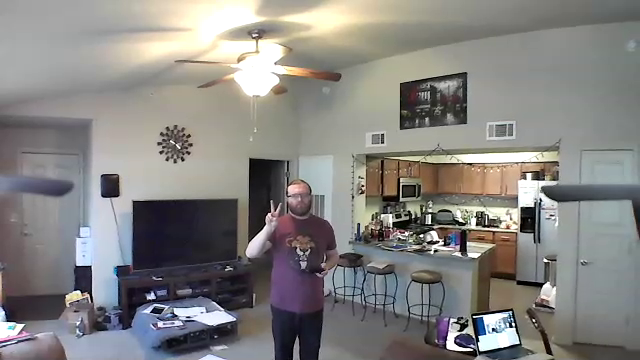peace: (259, 196, 289, 238)
